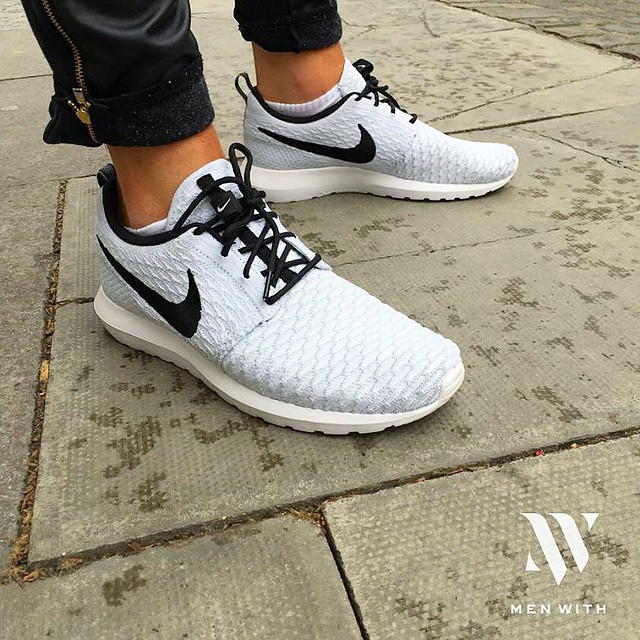sneaker: (52, 117, 489, 468), (219, 41, 533, 217)
